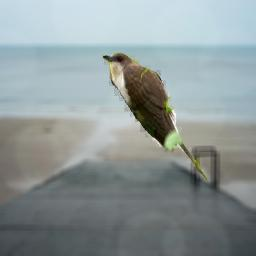Cuckoo: (102, 52, 209, 182)
